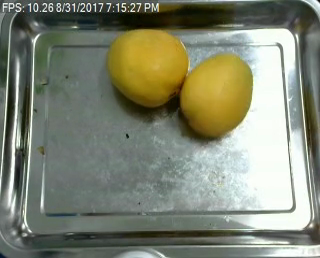Mango: (181, 47, 253, 135), (108, 28, 188, 105)
